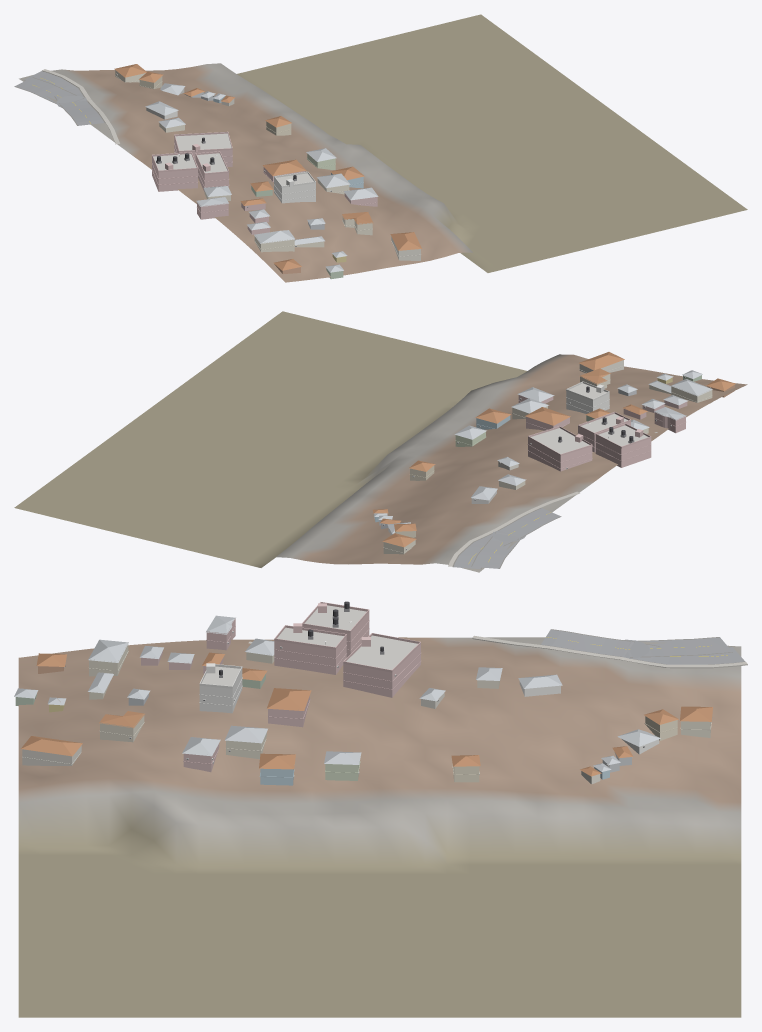
3 views of the same model, one above another, from view 1: azimuth 30°, elevation 25°; view 2: azimuth 150°, elevation 25°; view 3: azimuth 270°, elevation 25° (orthographic). The views are drawn at different scales.
Parts seen in each view (by area): view 1: Terrain-col, Buildings-col, Details, Roads-col, Sidewalks-col; view 2: Terrain-col, Buildings-col, Roads-col, Details, Sidewalks-col; view 3: Terrain-col, Buildings-col, Roads-col, Details, Sidewalks-col.
Part boxes in pixels (bbox=[...]): Terrain-col: bbox=[19, 14, 747, 282]; Buildings-col: bbox=[114, 64, 421, 279]; Details: bbox=[115, 73, 421, 256]; Roads-col: bbox=[14, 71, 105, 125]; Sidewalks-col: bbox=[42, 69, 119, 144]; Terrain-col: bbox=[14, 311, 747, 572]; Buildings-col: bbox=[373, 352, 735, 554]; Roads-col: bbox=[452, 508, 561, 569]; Details: bbox=[382, 365, 712, 553]; Sidewalks-col: bbox=[448, 432, 657, 566]; Terrain-col: bbox=[18, 637, 741, 1017]; Buildings-col: bbox=[14, 605, 712, 785]; Roads-col: bbox=[541, 629, 745, 664]; Details: bbox=[22, 601, 711, 777]; Sidewalks-col: bbox=[248, 635, 747, 668].
Bounding box in the file's own units: 265 × 41.62 × 260.
